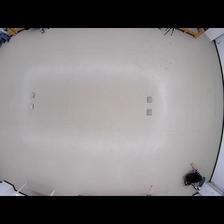fall: (182, 160, 209, 195)
